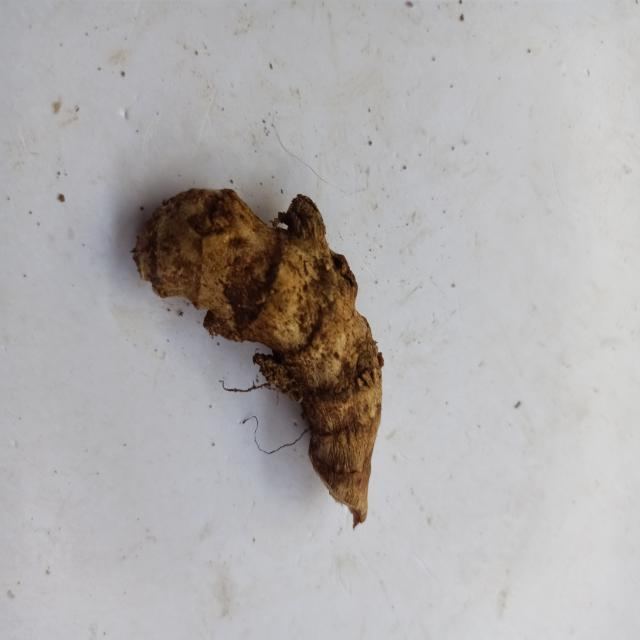Ginger: (133, 188, 384, 526)
